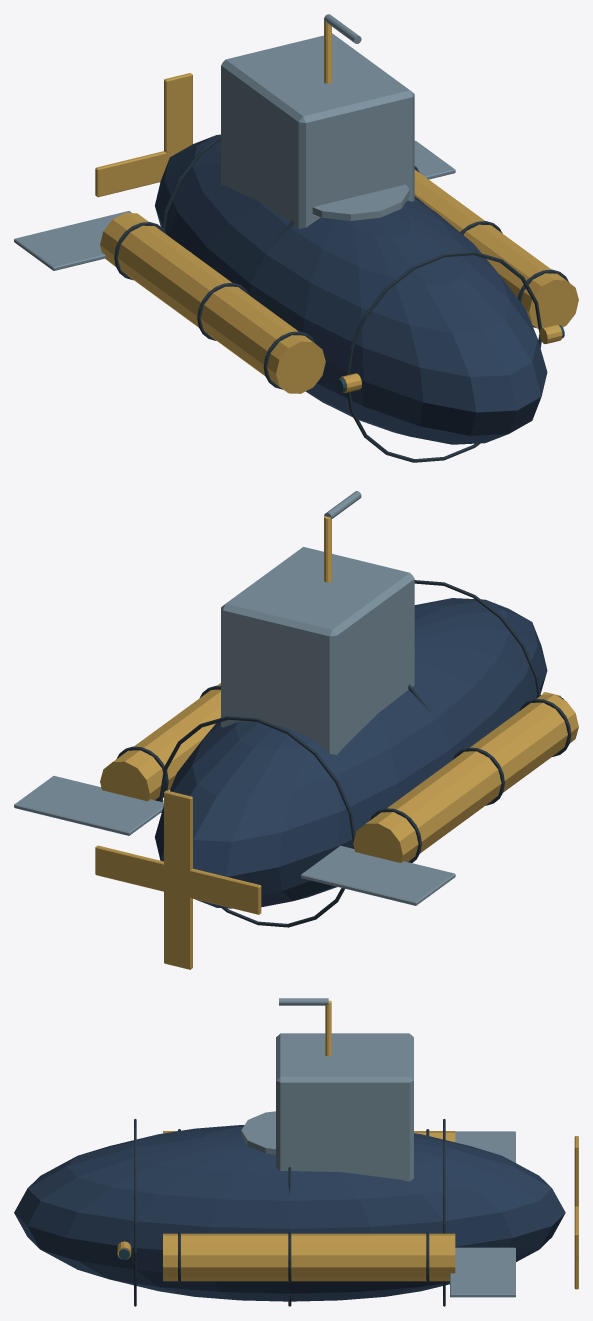
File: submarines-steampunk-sub.lod0.glb
3 views of the same model, one above another, from view 1: azimuth 30°, elevation 25°; view 2: azimuth 150°, elevation 25°; view 3: azimuth 270°, elevation 25° (orthographic). The views are drawn at different scales.
Parts seen in each view (by area): view 1: submarines-steampunk-sub__body, submarines-steampunk-sub__propeller, submarines-steampunk-sub__hatch; view 2: submarines-steampunk-sub__body, submarines-steampunk-sub__propeller; view 3: submarines-steampunk-sub__body, submarines-steampunk-sub__hatch, submarines-steampunk-sub__propeller.
Boxes of the visible parts, <box> form: submarines-steampunk-sub__body: <box>14,14,578,462</box>; submarines-steampunk-sub__propeller: <box>95,73,193,197</box>; submarines-steampunk-sub__hatch: <box>312,184,409,220</box>; submarines-steampunk-sub__body: <box>14,491,578,927</box>; submarines-steampunk-sub__propeller: <box>95,790,261,969</box>; submarines-steampunk-sub__body: <box>14,998,565,1306</box>; submarines-steampunk-sub__hatch: <box>241,1111,275,1154</box>; submarines-steampunk-sub__propeller: <box>574,1136,578,1289</box>.
Bounding box in the file's own units: 10.51 × 9 × 15.36.
